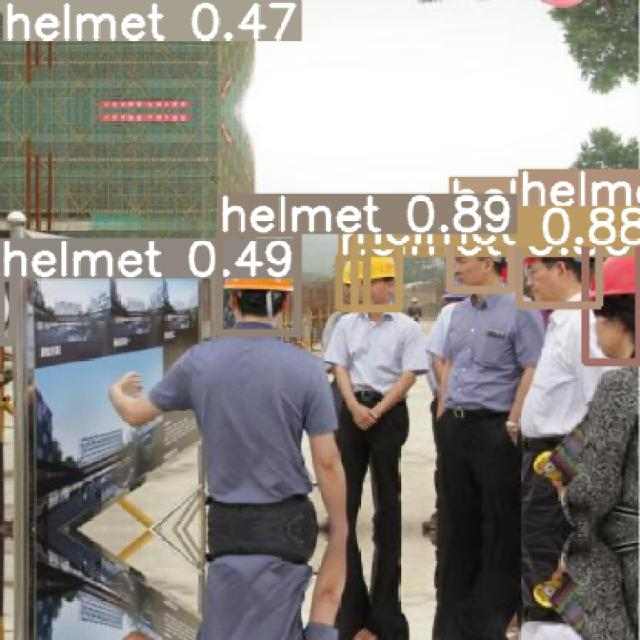helmet: (218, 232, 297, 332), (518, 208, 598, 304), (584, 237, 638, 361), (449, 216, 511, 290), (354, 245, 398, 308), (339, 255, 366, 308), (0, 276, 12, 341), (3, 0, 29, 11)
